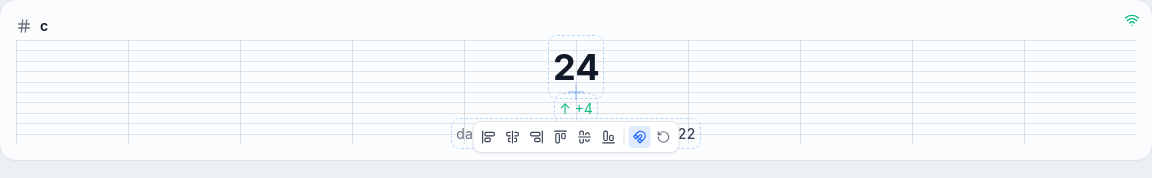
Test: StatPanel 요소 직접 편집 (SPEC-CHART-004) › AC-02: forceEdit 는 토글 없이 편집을 켠다
Press the mouse on the text with test id "stat-value" at (576, 67), box x1=553 y1=40 x2=599 y2=94
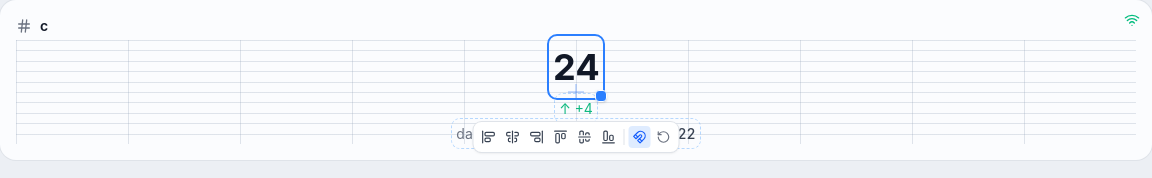
Now the slider with test id "panel-resize-value" is shown, box x1=595 y1=90 x2=607 y2=102
